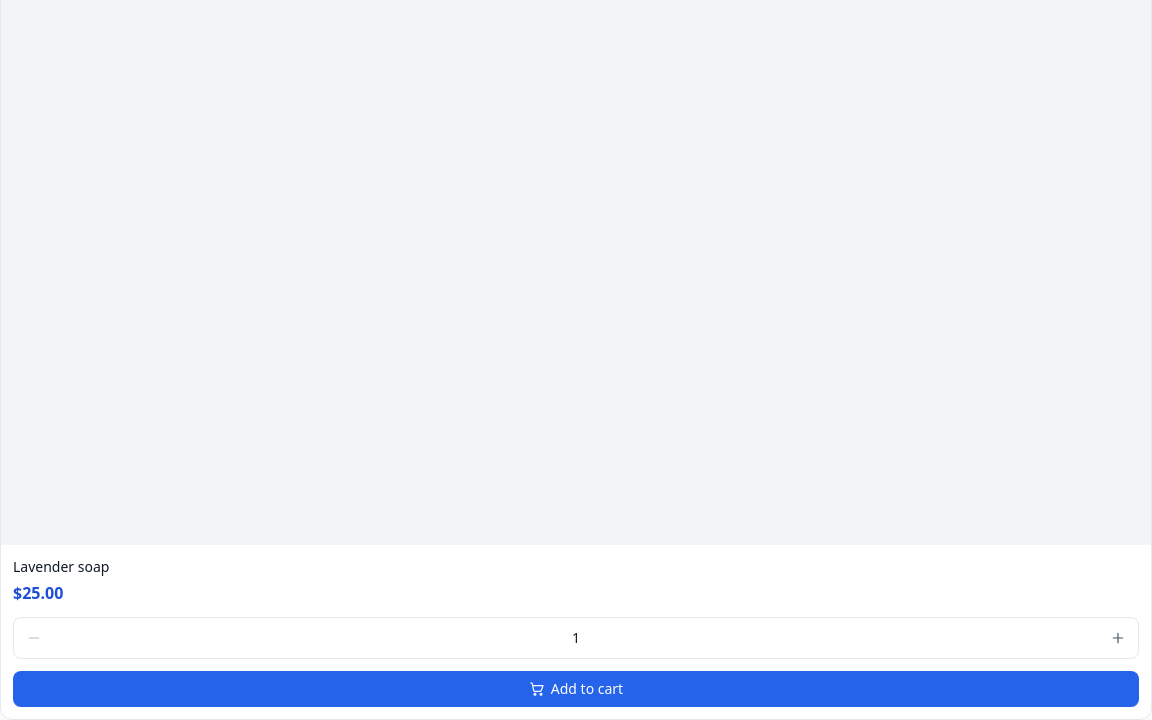
Scenario: a store that does not track inventory › does not cap the quantity stepper
(page scrolled)
Click the button named "increase quantity" at (1118, 638), box [1102,622,1134,654]
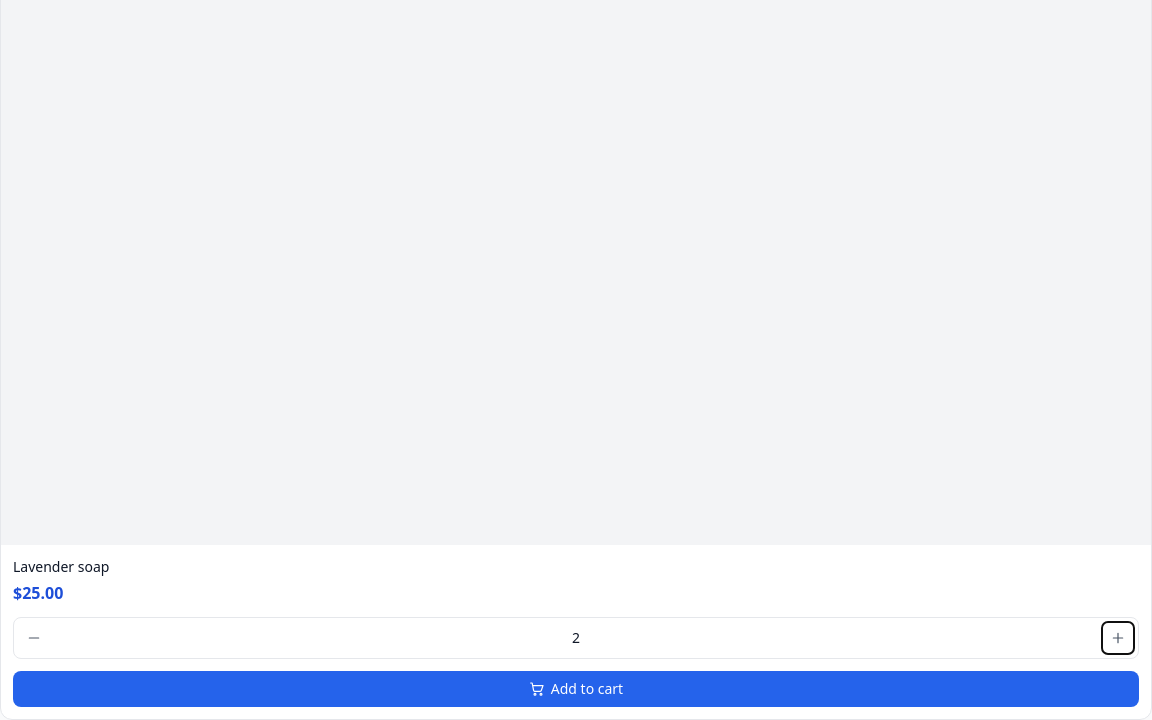
Click the button named "increase quantity" at (1118, 638), box [1102,622,1134,654]
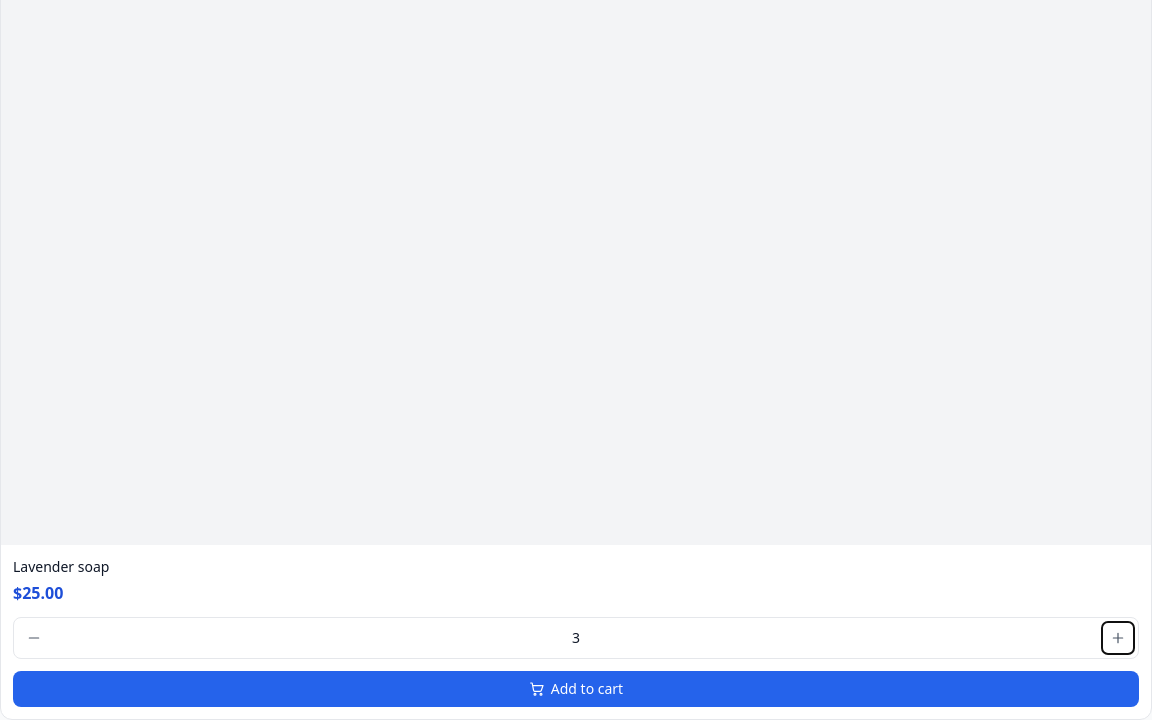
expect the text "3" is shown: met, box [572,628,580,647]
